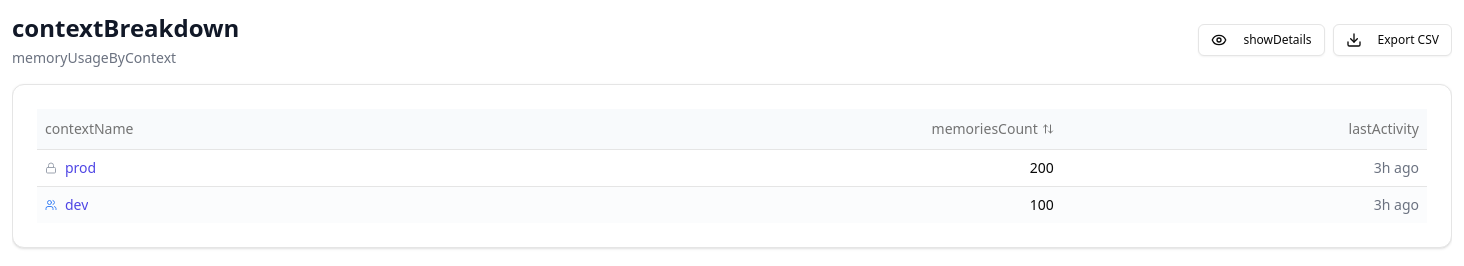
Scenario: ContextBreakdownTable › shows all 8 columns when Show Details is toggled
Note: Click "Show Details"
Click the button "showDetails": x=1262, y=40 [1198,24,1325,56]
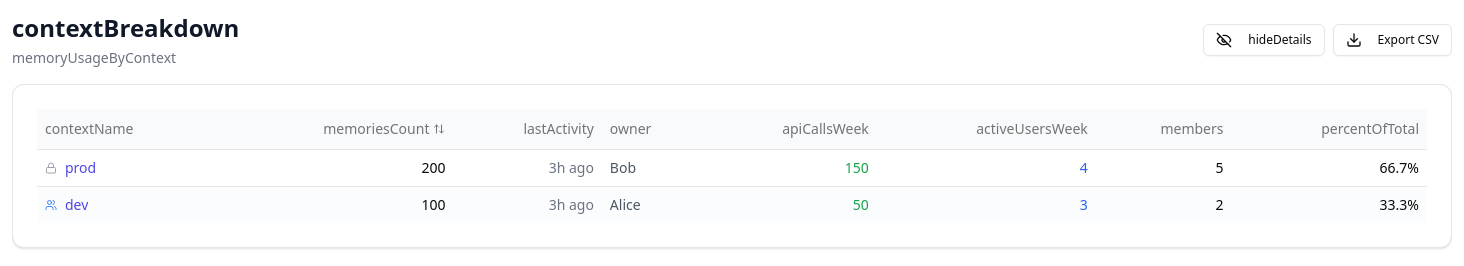
Result: the column heading "owner" is shown at [602,109,701,149]
Result: the column heading "apiCallsWeek" is shown at [701,109,877,149]
Result: the column heading "activeUsersWeek" is shown at [877,109,1096,149]
